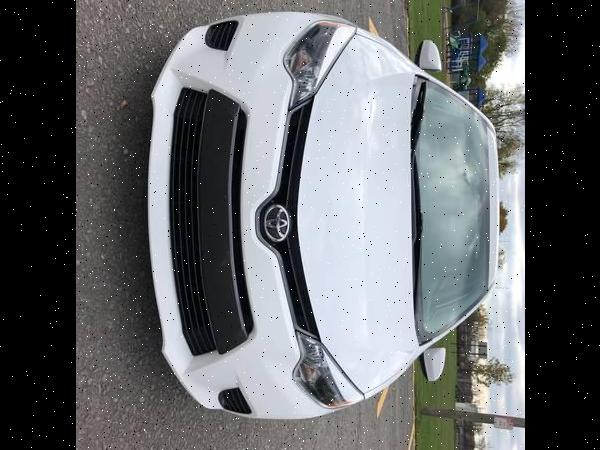Front_Bumper: (161, 12, 330, 418)
Front_Windshield: (411, 74, 492, 345)
Grille: (147, 65, 258, 372)
Hood: (296, 32, 422, 395)
Left_Headlight: (292, 323, 366, 408)
Left_Mirror: (420, 348, 443, 383)
Right_Headlight: (283, 23, 358, 115)
Right_Mirror: (416, 40, 441, 68)
